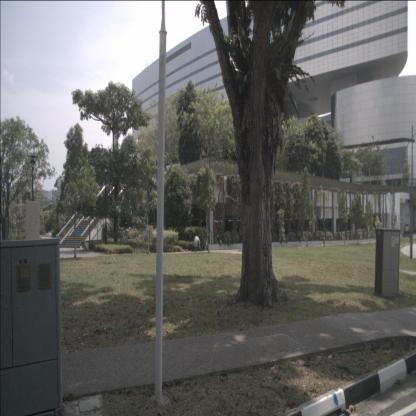human-pedestrian-adult: (192, 234, 201, 252)
